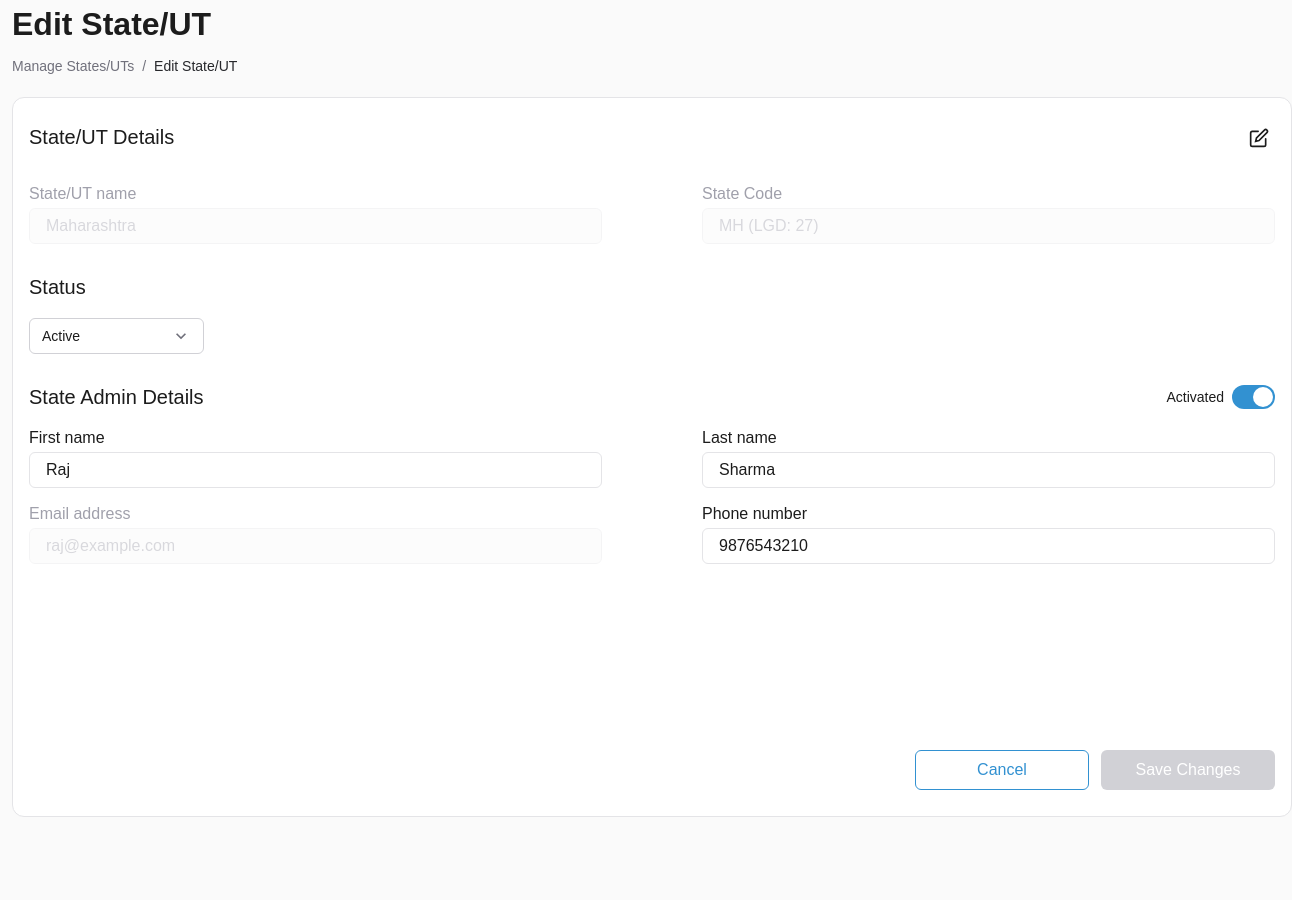
Scenario: EditStateUTPage › Save button is enabled after changing admin lastName
Replace the text in the field showing "Sharma" with "Patil": (988, 470) [702,452,1275,488]
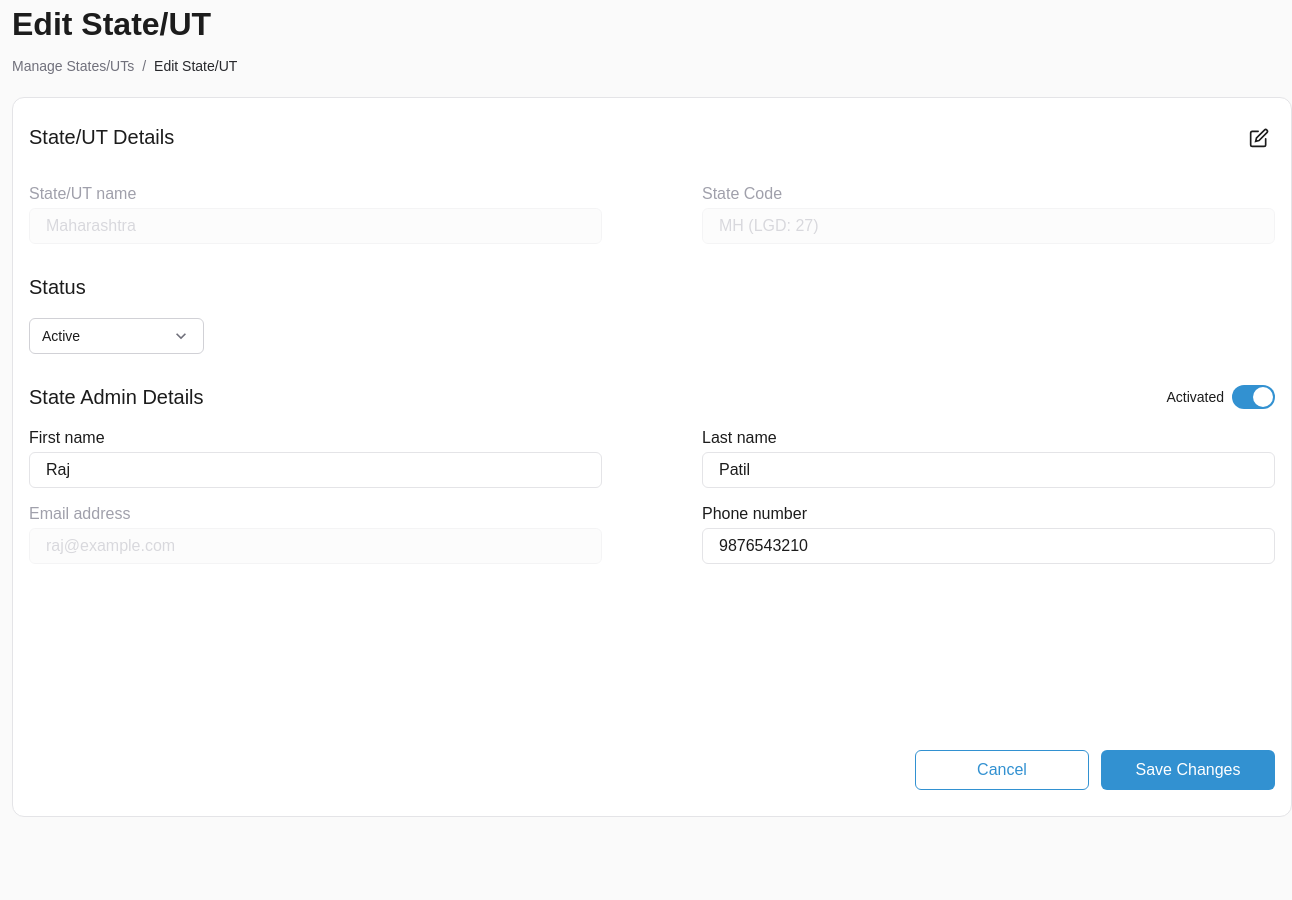
Expected: the button "Save Changes" is enabled, [1101,750,1275,790]
